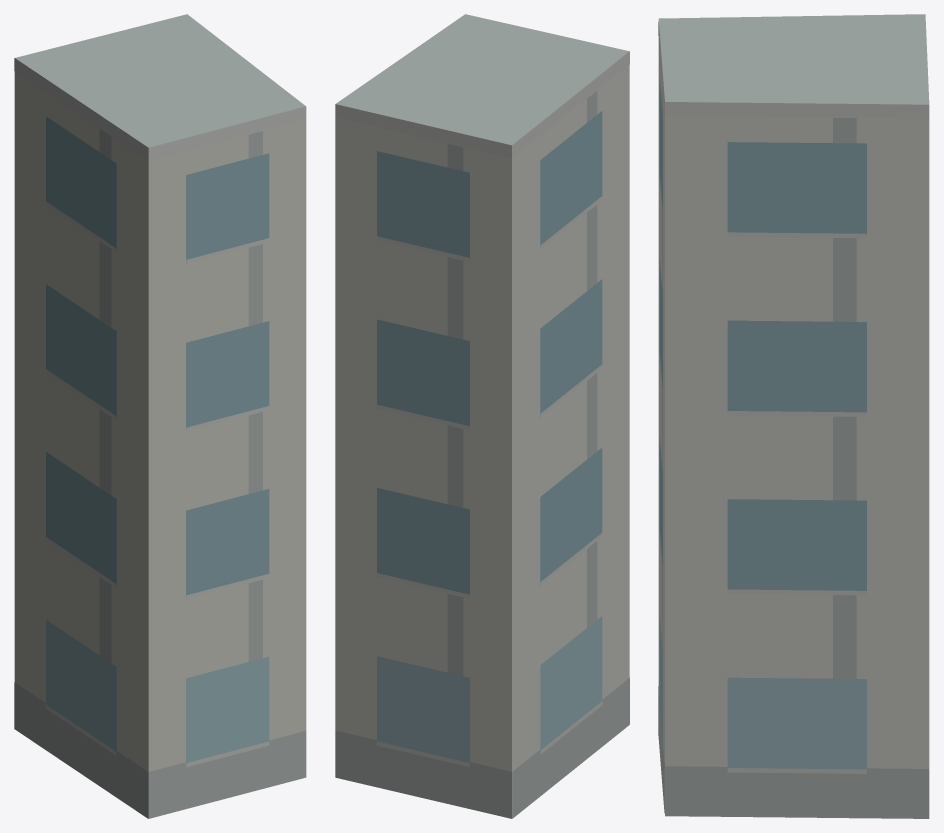
The model's file is survey-upis-32623375.glb.
3 views of the same model, side by side, from view 1: azimuth 30°, elevation 25°; view 2: azimuth 150°, elevation 25°; view 3: azimuth 270°, elevation 25° (orthographic). The views are drawn at different scales.
Parts seen in each view (by area): view 1: survey-upis-32623375.tmp; view 2: survey-upis-32623375.tmp; view 3: survey-upis-32623375.tmp.
Boxes of the visible parts, <box> form: survey-upis-32623375.tmp: <box>14,14,306,818</box>; survey-upis-32623375.tmp: <box>335,14,629,818</box>; survey-upis-32623375.tmp: <box>658,14,929,818</box>.
Bounding box in the file's own units: 3.33 × 12.2 × 4.2.
